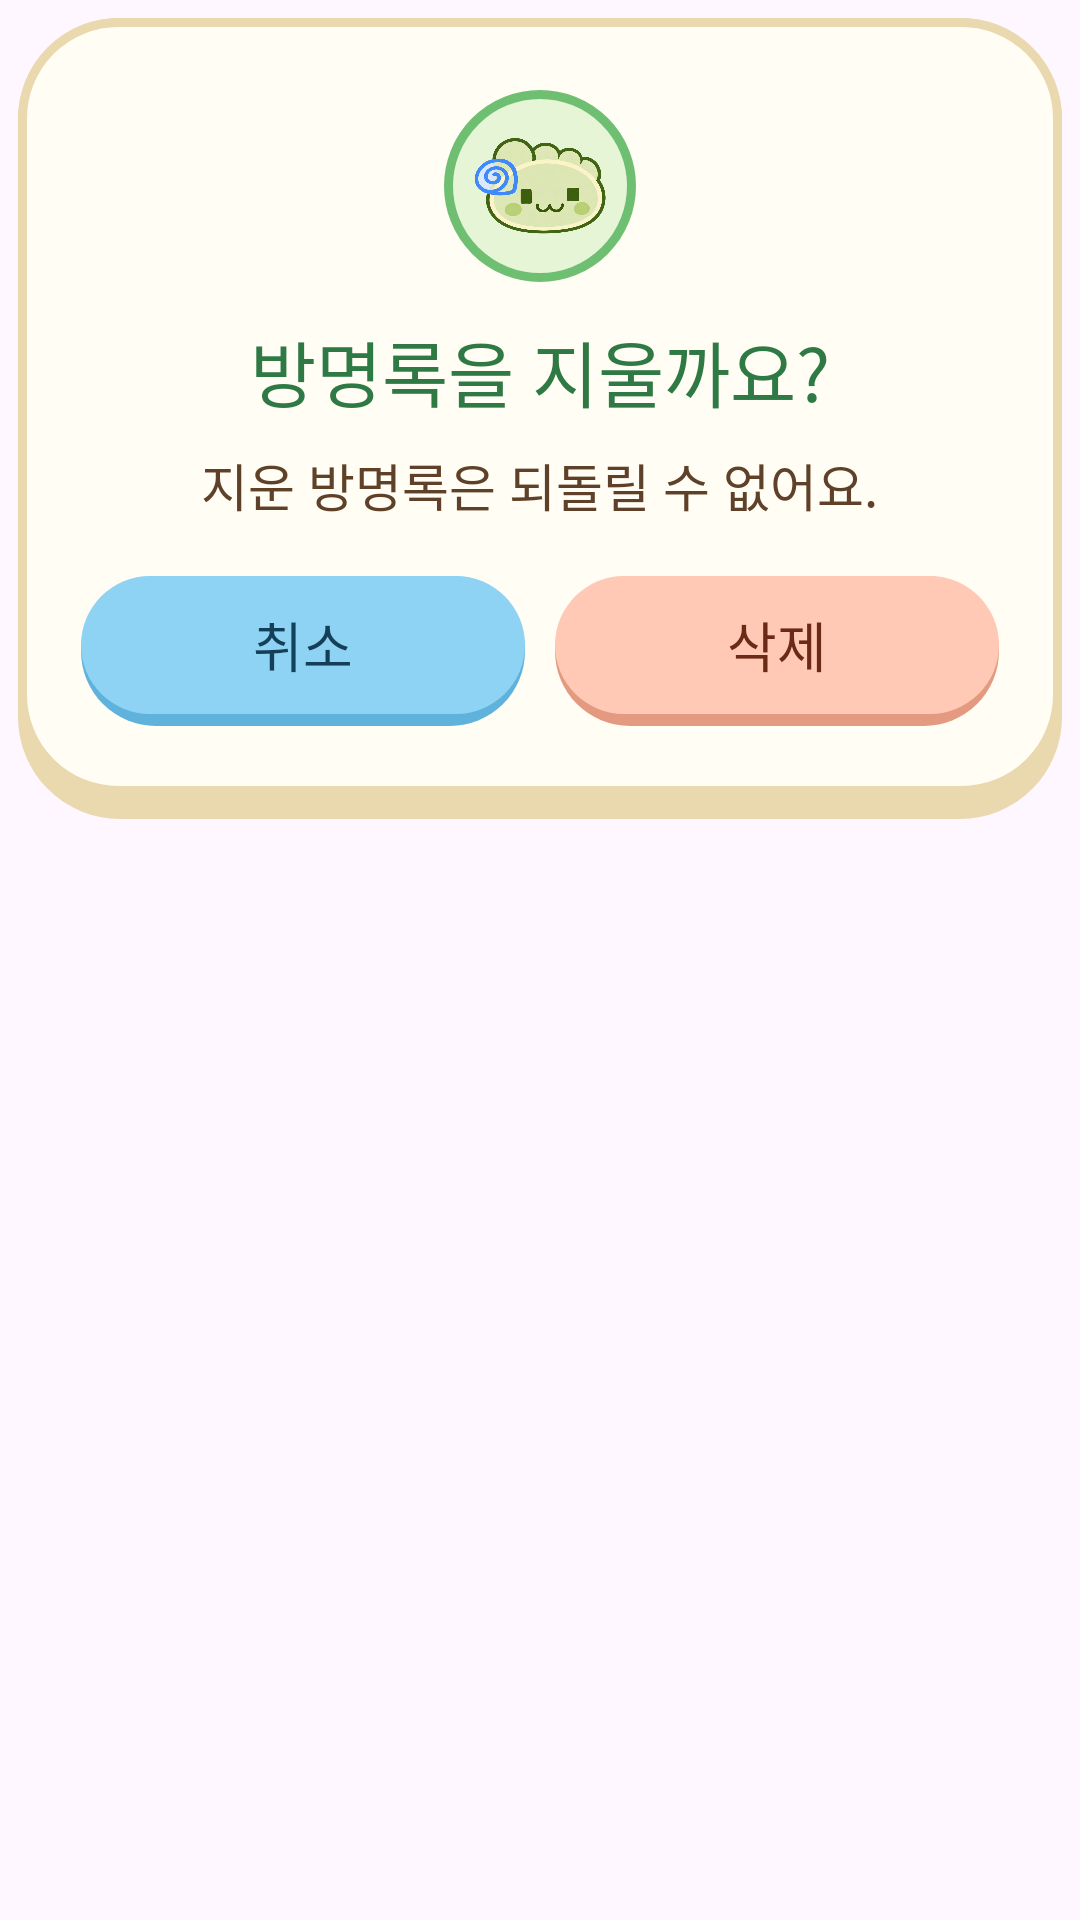

Icons on this 1080 x 1920 Android screen, each with its box as [x1, y1, x2, y2]:
mascot: [444, 90, 636, 282]
